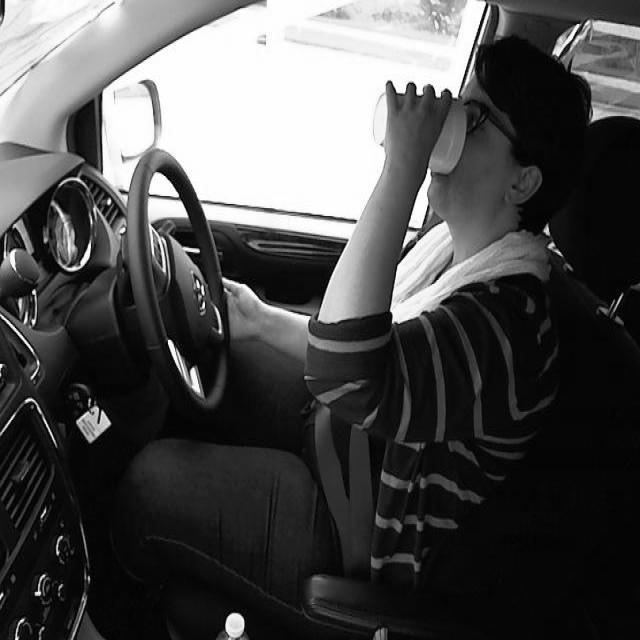drinking: (370, 84, 468, 175)
